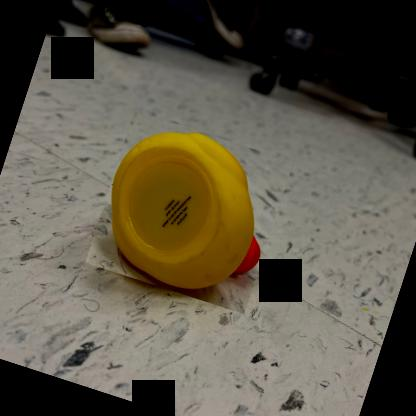duck: (85, 111, 293, 314)
